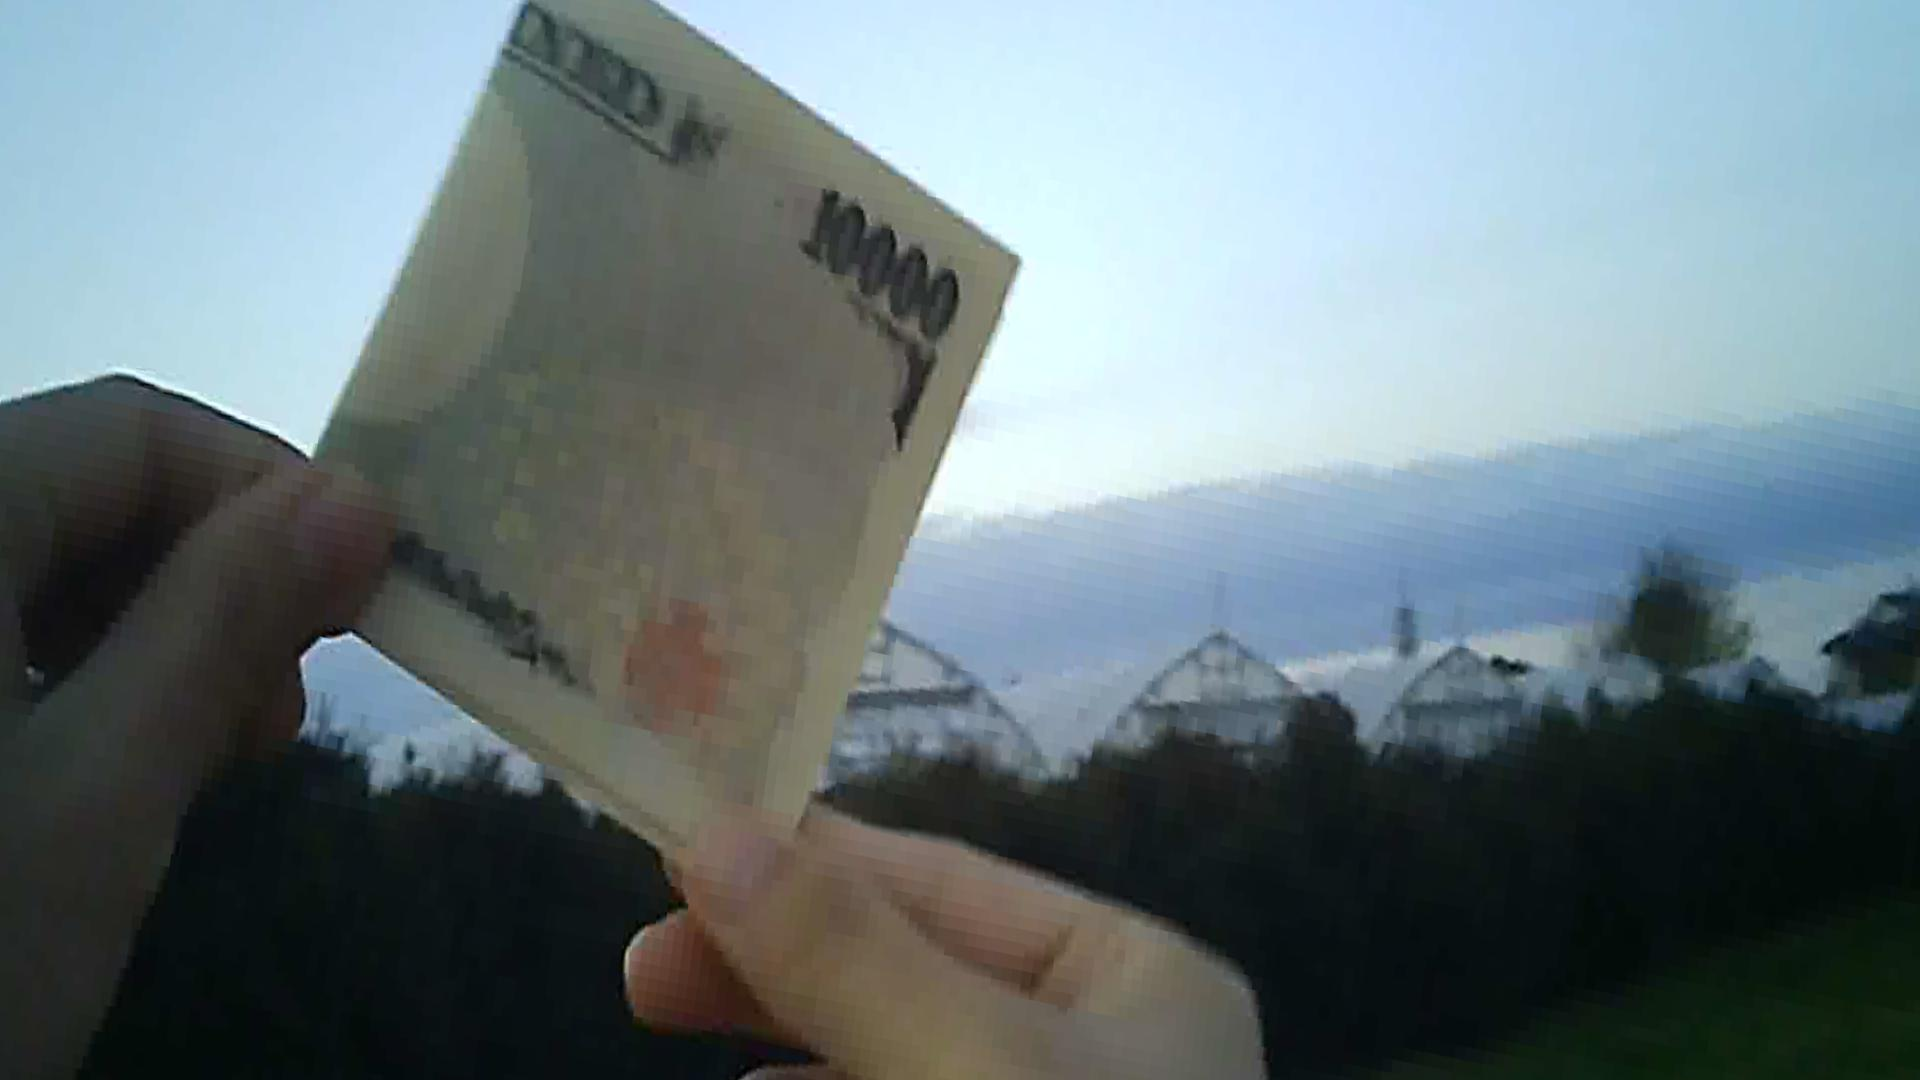10,000 Yen: (270, 7, 1006, 862)
